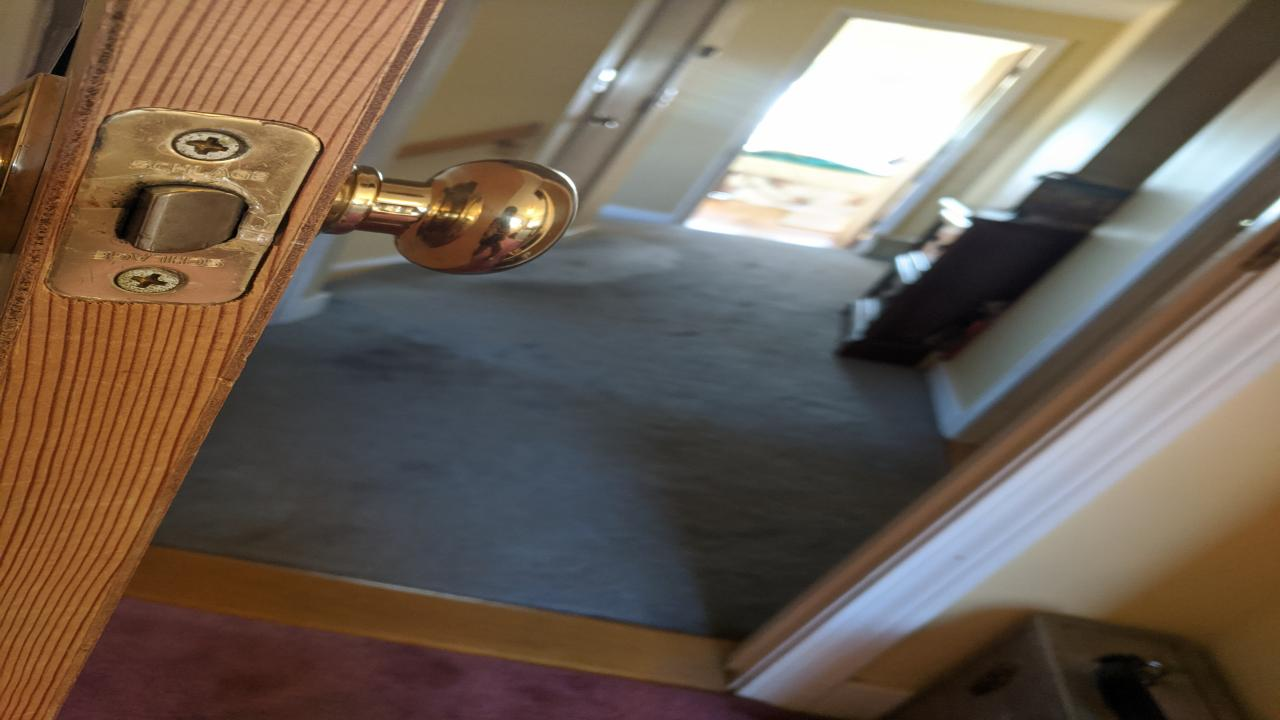CRS: (176, 128, 243, 163), (113, 266, 190, 295)
